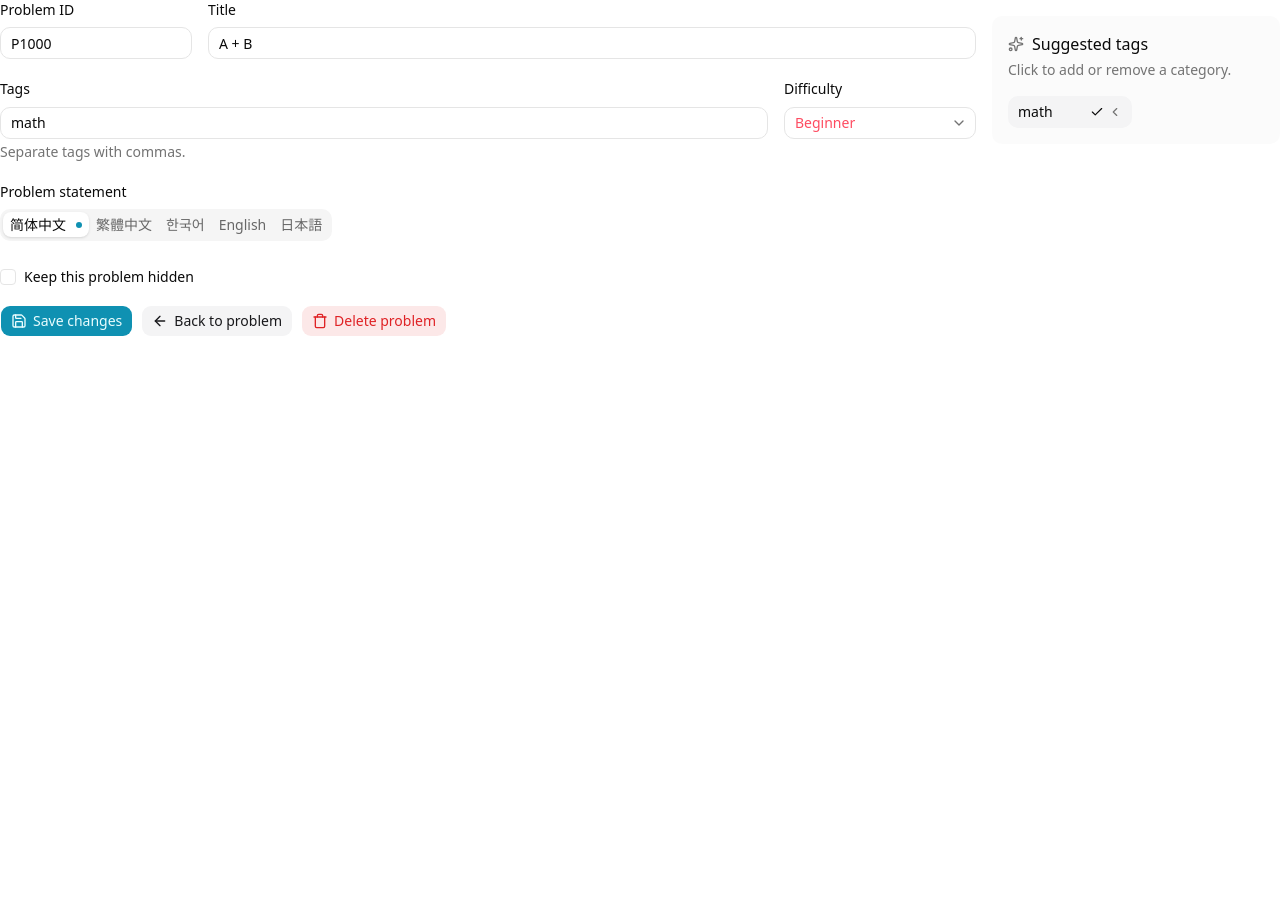
Test case: problem edit form › shows deletion errors without navigating
Click the button "Delete problem". click: (374, 321)
box: [301,305,447,337]
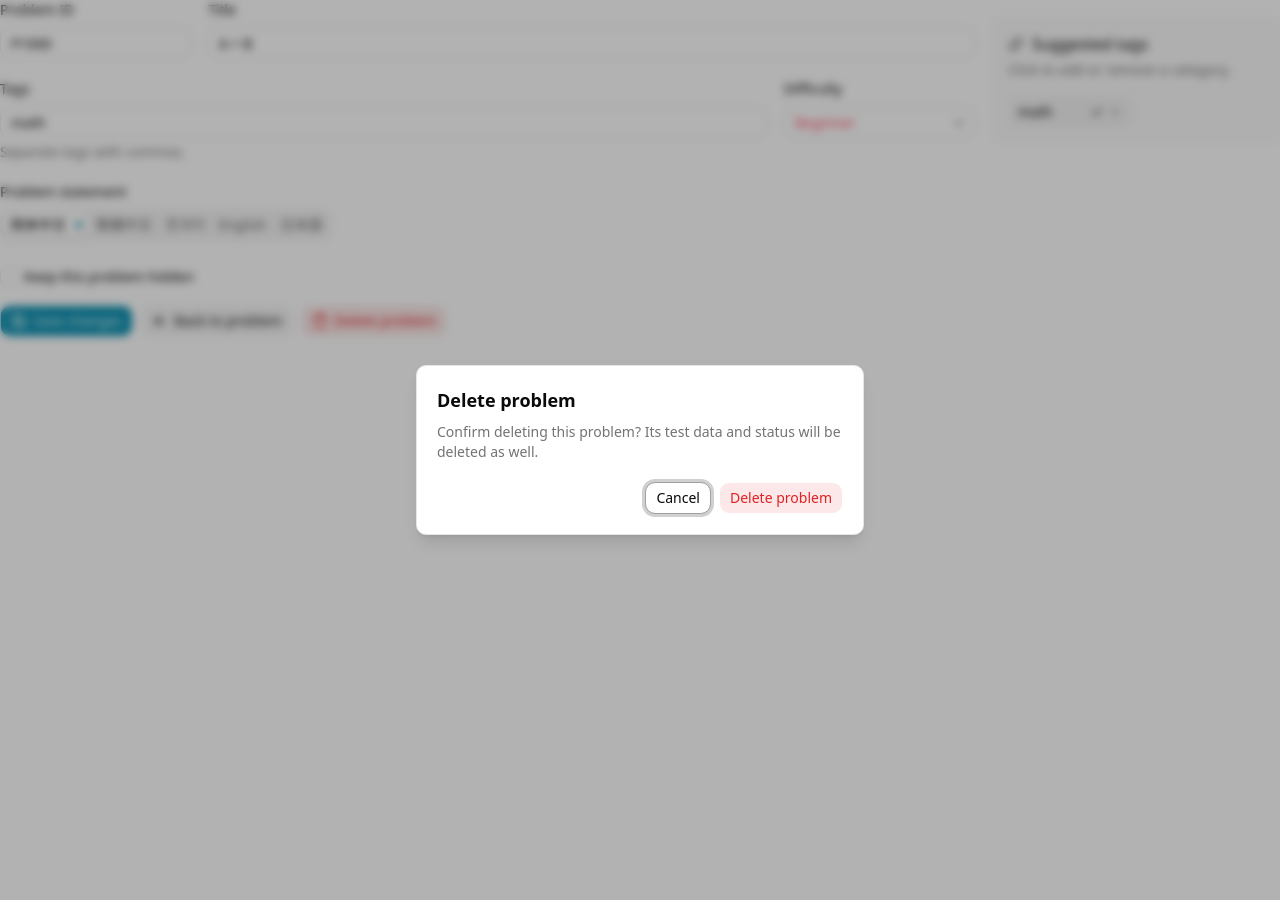
Click the button "Delete problem". click: (781, 498)
box: [719,482,843,514]
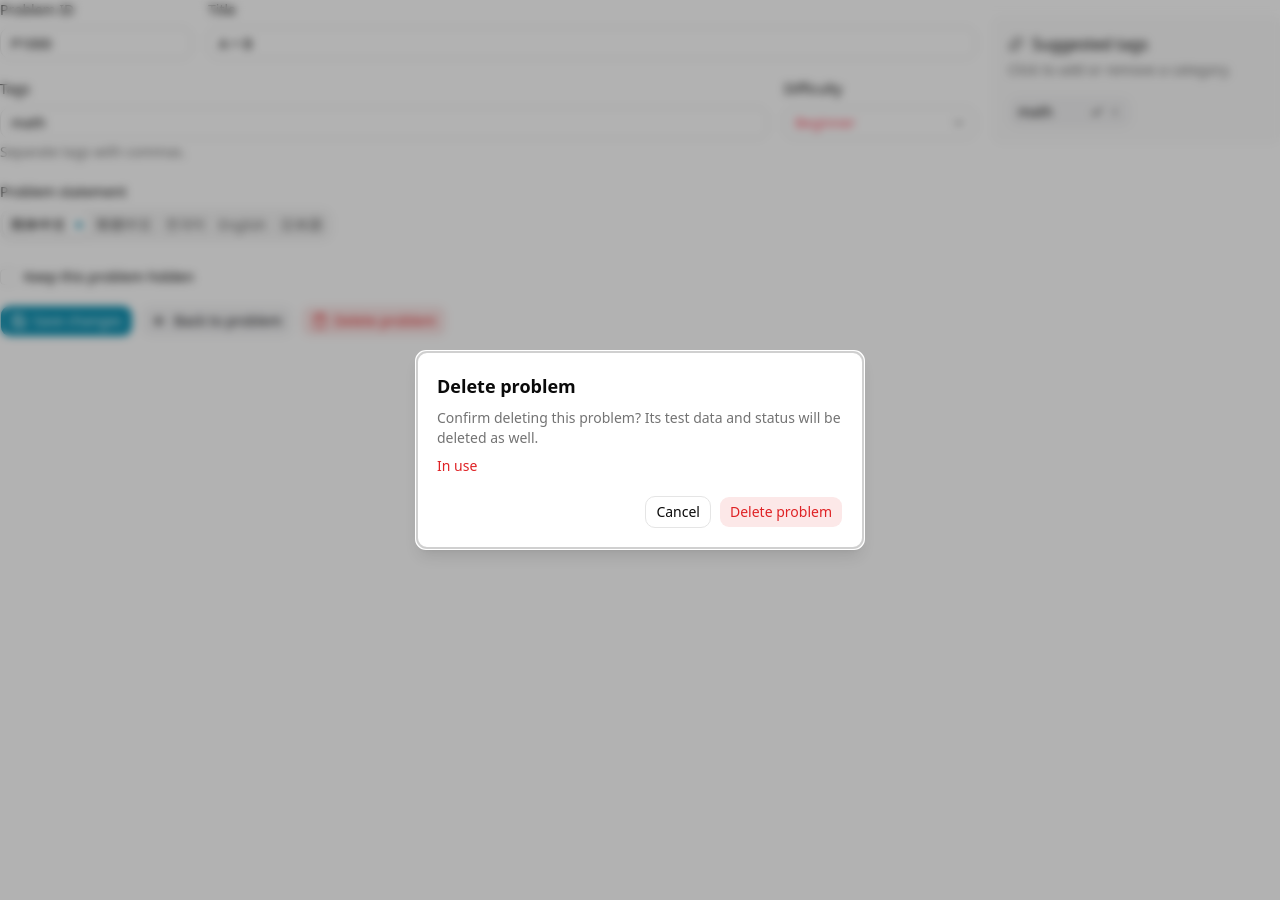
Expected: the message reads "In use", [437,456,477,475]
